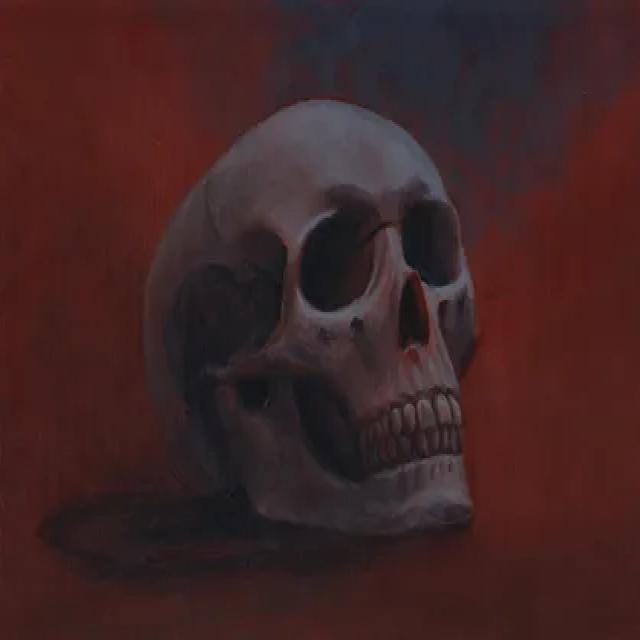skull: (128, 89, 489, 543)
